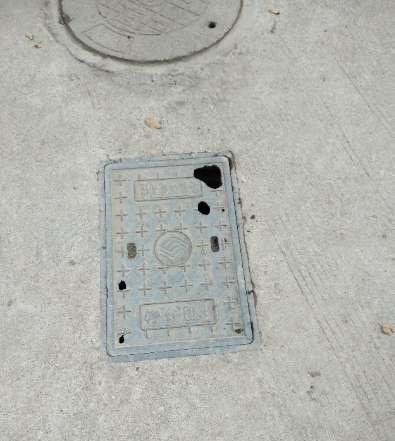wellcover: (90, 153, 275, 352), (46, 0, 265, 65)
